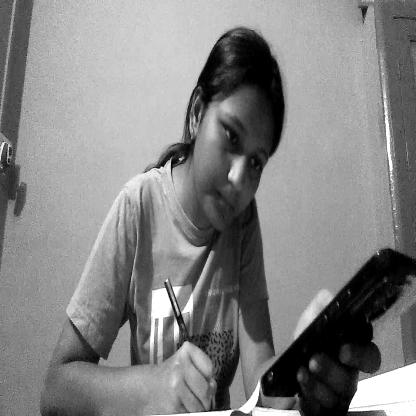Distracted: (184, 31, 292, 240)
